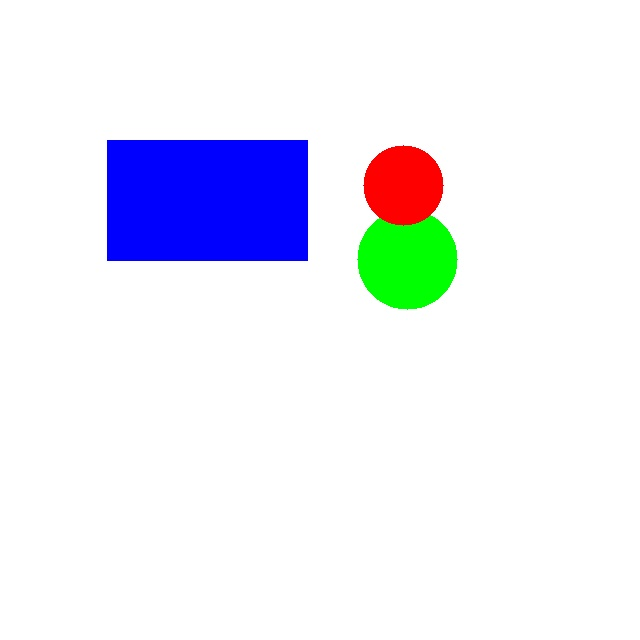cartao: (107, 140, 307, 260)
rosca_externa: (357, 209, 457, 309)
rosca_interna: (363, 145, 443, 225)
